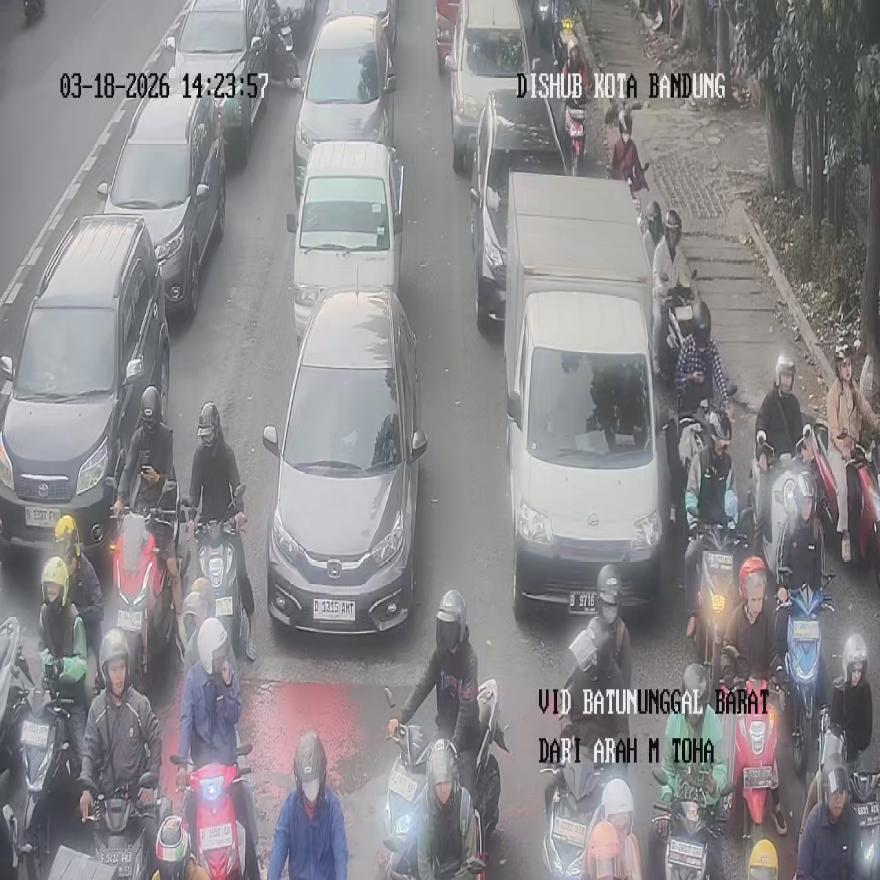Motor: (503, 175, 676, 616), (0, 214, 170, 555), (263, 285, 427, 632), (96, 90, 225, 319), (286, 141, 404, 342), (469, 89, 566, 325), (164, 0, 268, 165), (444, 0, 530, 172)
Truk: (418, 678, 506, 880), (108, 490, 182, 694), (14, 658, 82, 878), (796, 722, 880, 880), (774, 572, 834, 780), (170, 744, 260, 880), (542, 736, 619, 880), (750, 425, 818, 588), (192, 484, 251, 662), (812, 424, 879, 578), (685, 519, 746, 682), (381, 687, 430, 880), (650, 766, 732, 880), (729, 678, 786, 838), (86, 772, 166, 880), (0, 614, 31, 784), (654, 290, 696, 386), (556, 15, 589, 108), (264, 5, 299, 88), (531, 0, 557, 66), (564, 99, 586, 175), (22, 0, 44, 24)
